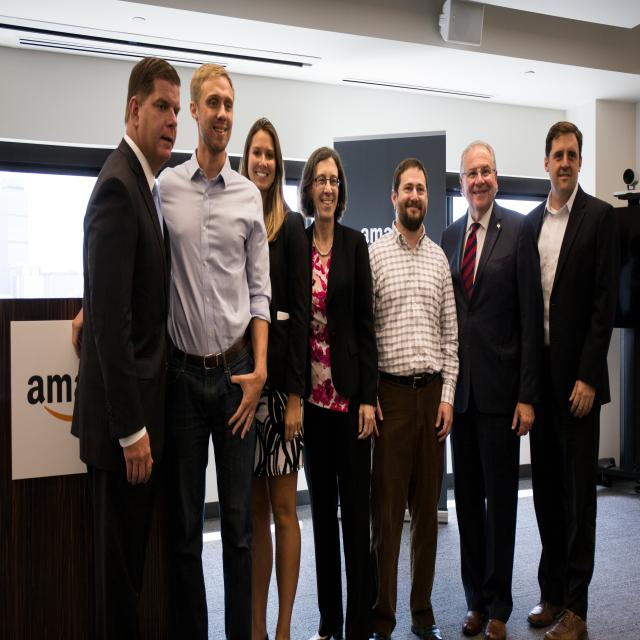body: (71, 62, 271, 640), (70, 54, 182, 638), (512, 116, 626, 640), (437, 138, 536, 640), (366, 155, 461, 640), (297, 145, 380, 640), (236, 117, 307, 640)
